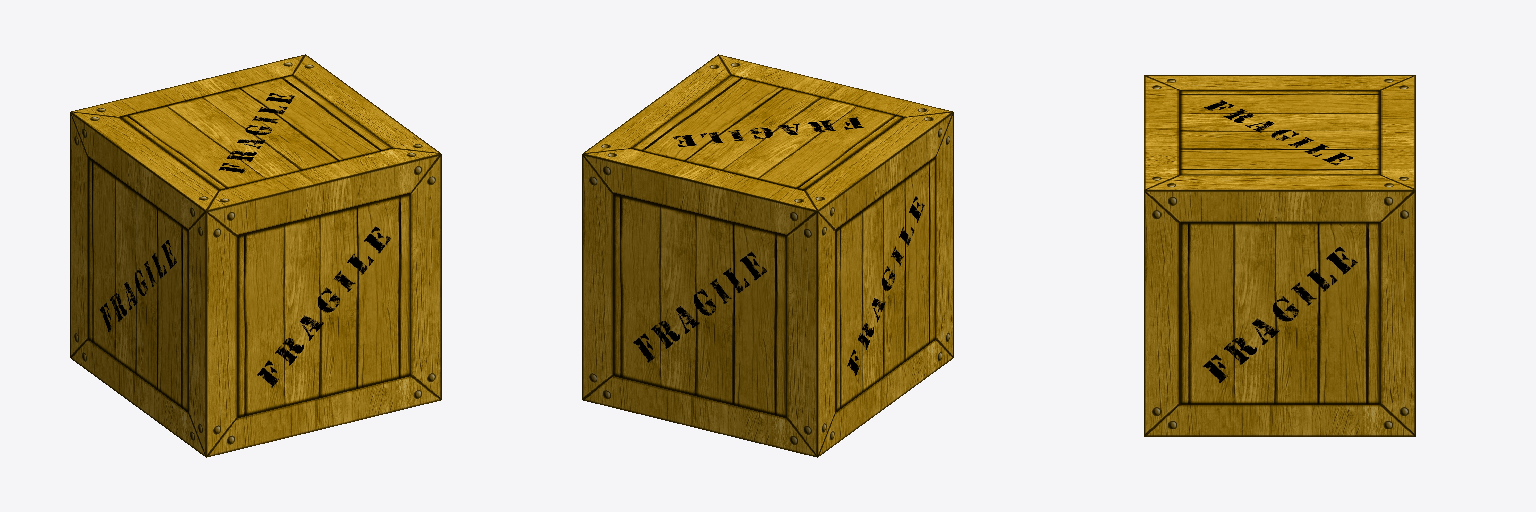
3 renders of one model, left to right at view 1: azimuth 30°, elevation 25°; view 2: azimuth 150°, elevation 25°; view 3: azimuth 270°, elevation 25°, orthographic.
Parts seen in each view (by area): view 1: Crate_Fragile; view 2: Crate_Fragile; view 3: Crate_Fragile.
Boxes of the visible parts, x1,y1,x2,y2 form: Crate_Fragile: [70, 54, 441, 457]; Crate_Fragile: [582, 54, 953, 457]; Crate_Fragile: [1144, 75, 1415, 436].
Size of the model in its own units: 39.37 by 39.37 by 39.37.
Materials: 1 (1 with a texture image).